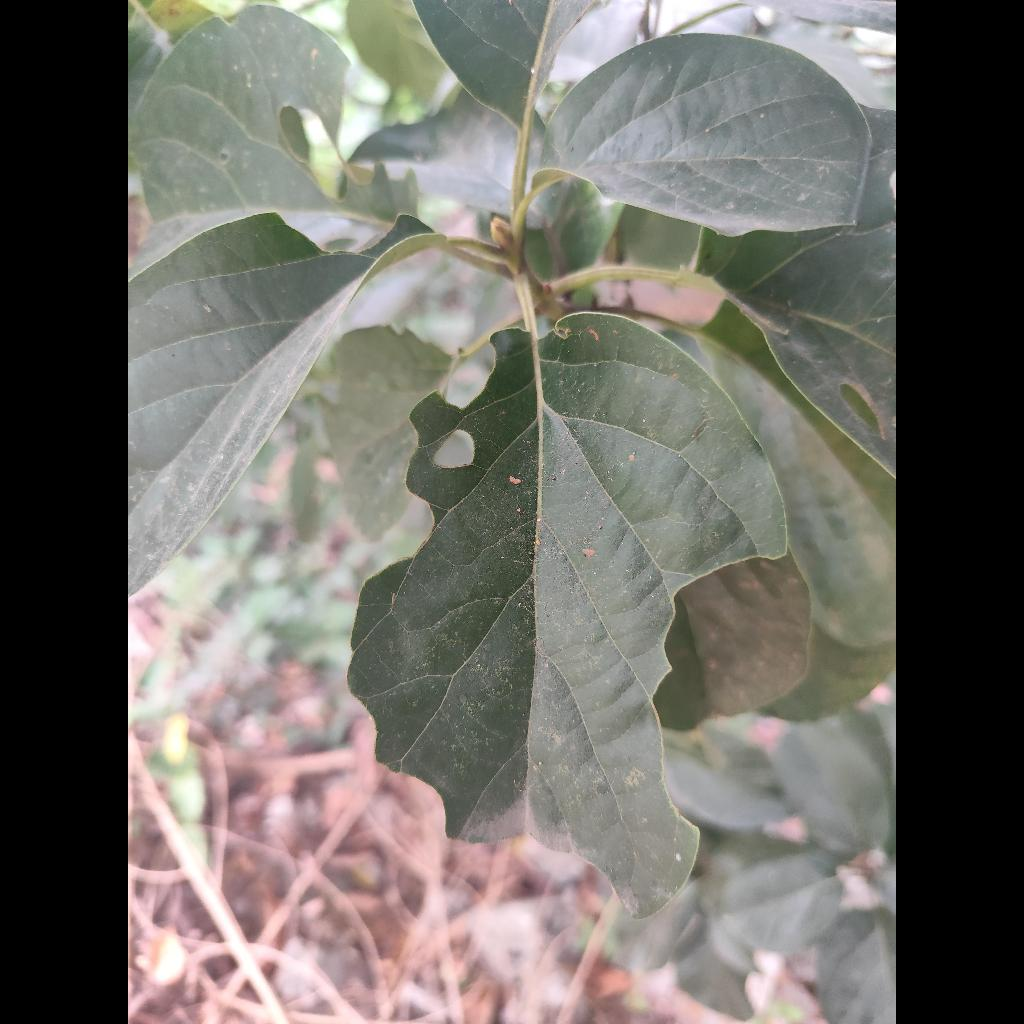Pest Infested: (348, 313, 786, 916)
